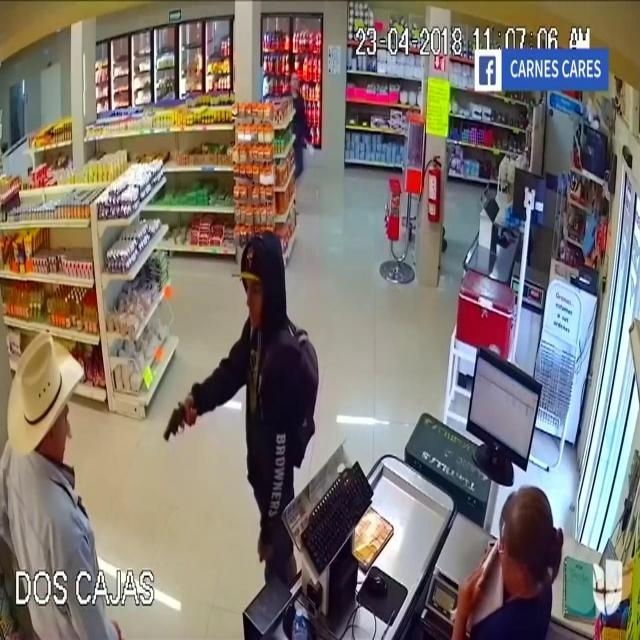weapon: (160, 390, 189, 457)
